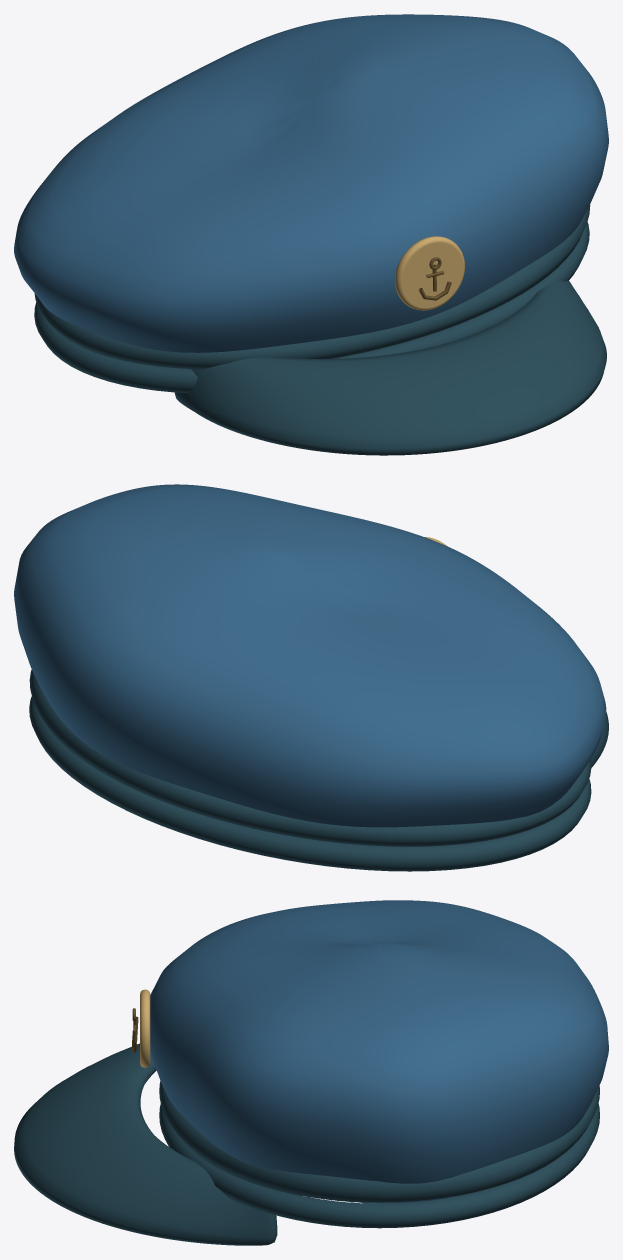
The model's file is bear_travel_cap.glb.
3 views of the same model, one above another, from view 1: azimuth 30°, elevation 25°; view 2: azimuth 150°, elevation 25°; view 3: azimuth 270°, elevation 25° (orthographic).
Parts seen in each view (by area): view 1: bear_travel_cap__WovenCloth_TravelBlue, bear_travel_cap__WovenCloth_CapBand, bear_travel_cap__SatinBrass_PawBrooch.001; view 2: bear_travel_cap__WovenCloth_TravelBlue, bear_travel_cap__WovenCloth_CapBand; view 3: bear_travel_cap__WovenCloth_TravelBlue, bear_travel_cap__WovenCloth_CapBand, bear_travel_cap__SatinBrass_PawBrooch.001.
Part boxes in pixels (left/top/right/bottom): bear_travel_cap__WovenCloth_TravelBlue: left=14, top=14, right=608, bottom=352; bear_travel_cap__WovenCloth_CapBand: left=34, top=205, right=606, bottom=455; bear_travel_cap__SatinBrass_PawBrooch.001: left=395, top=236, right=464, bottom=310; bear_travel_cap__WovenCloth_TravelBlue: left=14, top=484, right=606, bottom=827; bear_travel_cap__WovenCloth_CapBand: left=29, top=669, right=608, bottom=871; bear_travel_cap__WovenCloth_TravelBlue: left=150, top=900, right=608, bottom=1203; bear_travel_cap__WovenCloth_CapBand: left=14, top=1043, right=599, bottom=1245; bear_travel_cap__SatinBrass_PawBrooch.001: left=140, top=989, right=150, bottom=1067.
Bounding box in the file's own units: 0.8598 × 0.3547 × 0.8221.
